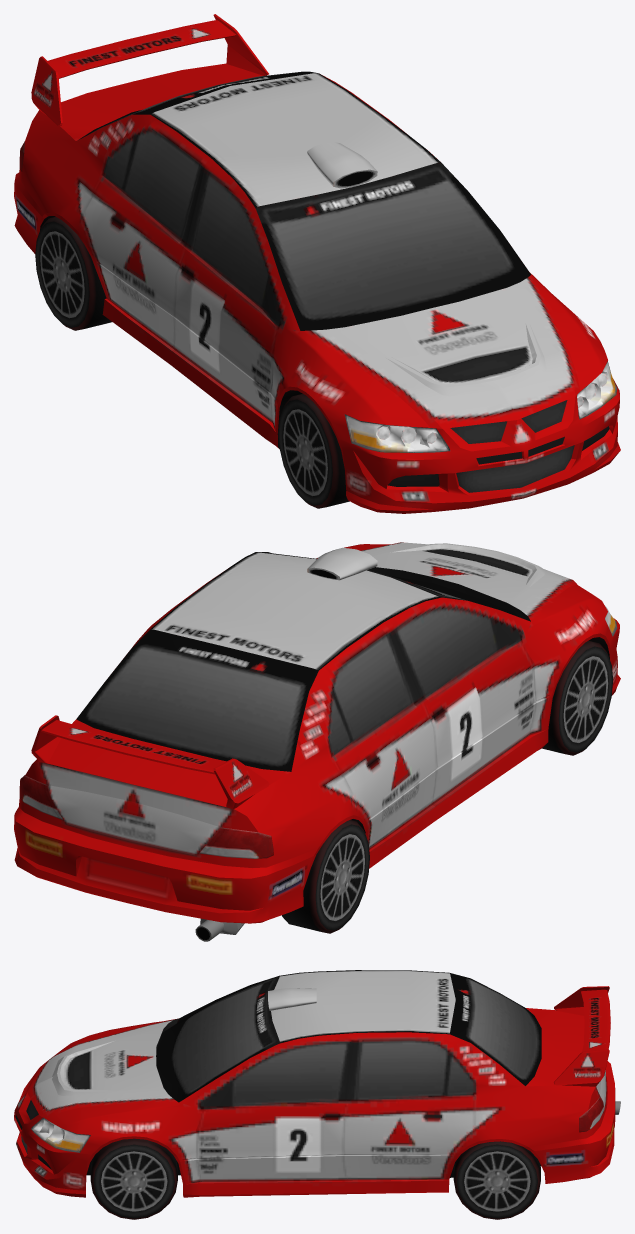
The picture shows the model from 3 angles, top to bottom: view 1: azimuth 30°, elevation 25°; view 2: azimuth 150°, elevation 25°; view 3: azimuth 270°, elevation 25°; orthographic projection. The views are drawn at different scales.
Parts seen in each view (by area): view 1: Mitsubishi Lancer; view 2: Mitsubishi Lancer; view 3: Mitsubishi Lancer.
Boxes of the visible parts, x1=… form: Mitsubishi Lancer: x1=14, y1=14, x2=620, y2=513; Mitsubishi Lancer: x1=14, y1=542, x2=620, y2=941; Mitsubishi Lancer: x1=14, y1=970, x2=620, y2=1219.
Bounding box in the file's own units: 1.76 × 1.43 × 4.4.
Materials: 5 (5 with a texture image).
